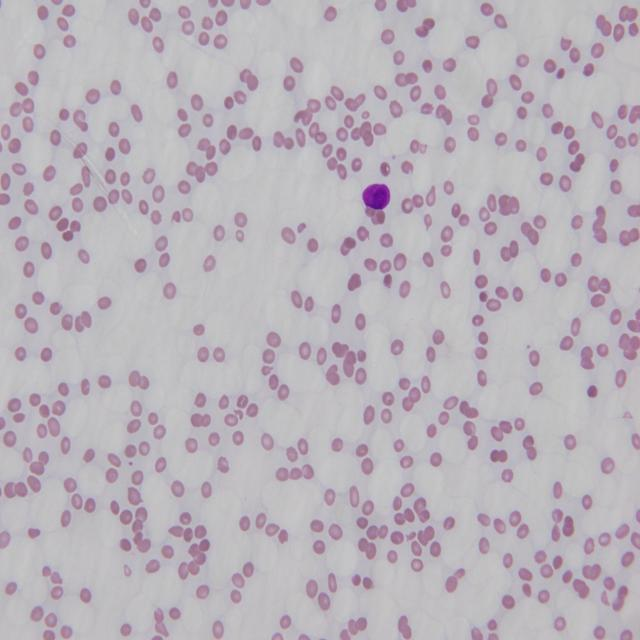cell: (362, 183, 390, 210)
